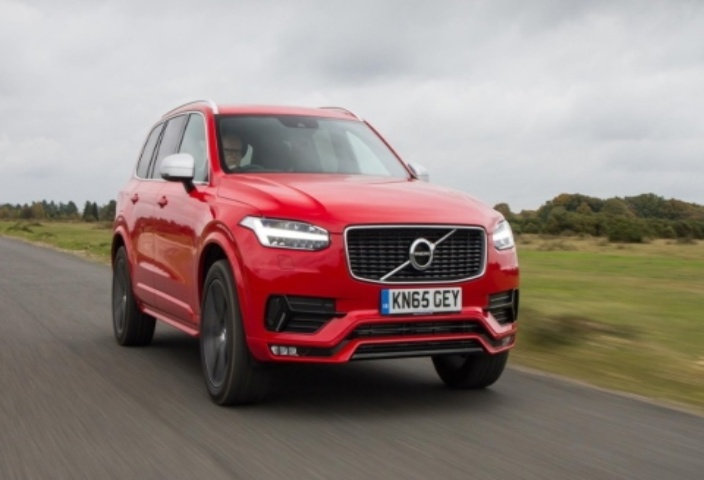camper: (95, 77, 535, 409)
